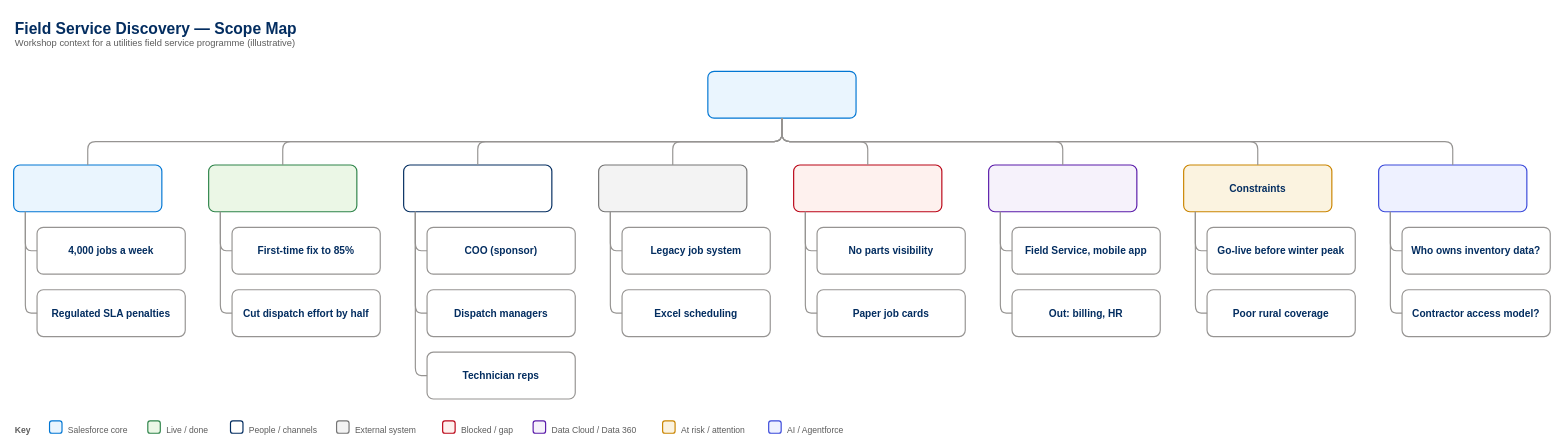
Some shapes in this 1565 by 448 pixel diagram are drawn without their labels. Here are the shapes that lost their labels. From the top down, the centre of each, then its label:
At pixel 781 94: "Field Service Programme Discovery scope".
At pixel 87 188: "Business context".
At pixel 282 188: "Objectives".
At pixel 477 188: "Stakeholders".
At pixel 672 188: "Current state".
At pixel 867 188: "Pain points".
At pixel 1062 188: "Scope".
At pixel 1452 188: "Open questions".
